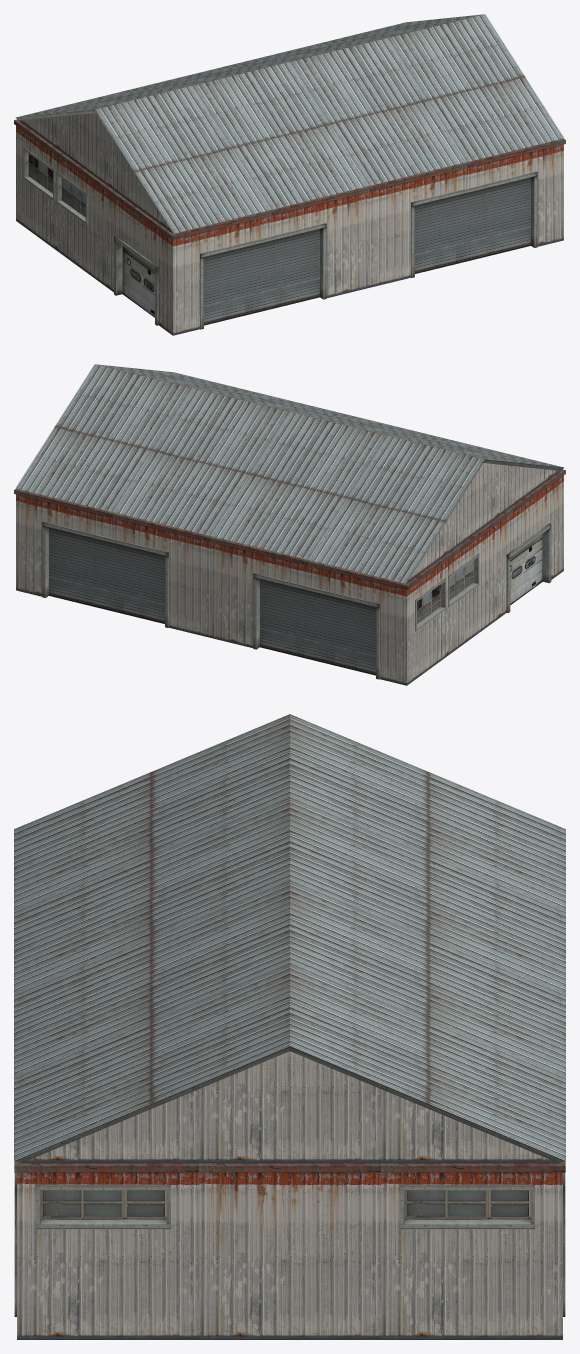
File: Hangar_v2_7.FBX
3 views of the same model, one above another, from view 1: azimuth 30°, elevation 25°; view 2: azimuth 150°, elevation 25°; view 3: azimuth 270°, elevation 25° (orthographic). The views are drawn at different scales.
Visible parts, largest first — view 1: Hangar_v2_7, Hangar_v2_7_gate3, Hangar_v2_7_gate4, Hangar_v2_7_door1; view 2: Hangar_v2_7, Hangar_v2_7_gate1, Hangar_v2_7_gate2, Hangar_v2_7_door1; view 3: Hangar_v2_7.
Boxes of the visible parts, <box> form: Hangar_v2_7: <box>14,14,565,335</box>; Hangar_v2_7_gate3: <box>204,229,319,325</box>; Hangar_v2_7_gate4: <box>415,177,530,273</box>; Hangar_v2_7_door1: <box>122,246,154,317</box>; Hangar_v2_7: <box>14,364,565,685</box>; Hangar_v2_7_gate1: <box>49,527,164,623</box>; Hangar_v2_7_gate2: <box>260,579,375,675</box>; Hangar_v2_7_door1: <box>510,534,542,604</box>; Hangar_v2_7: <box>14,714,565,1339</box>.
Size of the model in its own units: 19.88 by 8.14 by 13.86.
